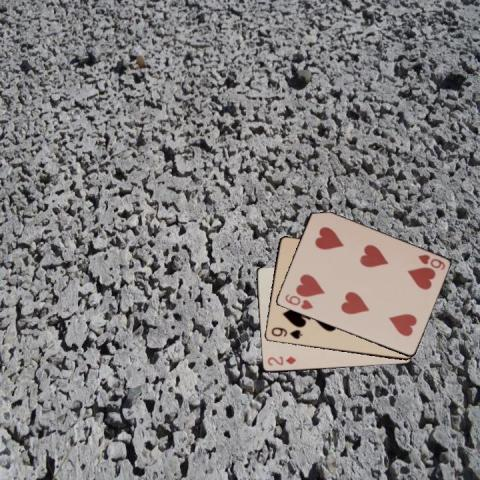2d: (265, 354, 297, 367)
6h: (282, 290, 314, 311), (415, 252, 446, 272)
9s: (268, 324, 303, 341)
